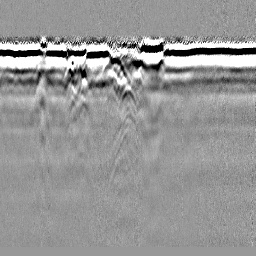cavity: (117, 85, 139, 113)
